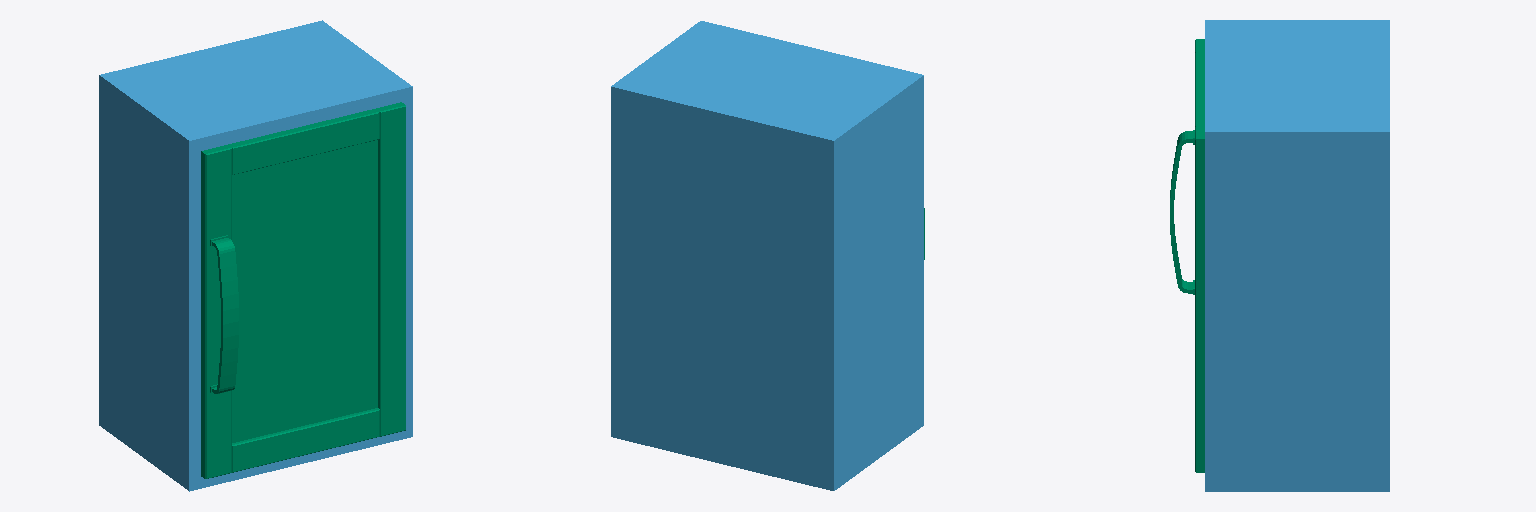
robot.urdf — cabinet:
<robot name="cabinet">
  <link name="root" />
  <joint name="root_rotation" type="fixed">
    <origin rpy="0 0 0" xyz="0 0 0" />
    <parent link="root" />
    <child link="cabinet0132" />
  </joint>
  <link name="cabinet0132">
    <collision>
      <origin rpy="0.000000 -0.000000 0.000000" xyz="0 0.009 0.4399338" />
      <geometry>
        <box size="0.3 0.209999996 0.0201599993" />
      </geometry>
    </collision>
    <collision>
      <origin rpy="0.000000 -0.000000 0.000000" xyz="0 0.0080598 0.3001128" />
      <geometry>
        <box size="0.26142 0.184259999 0.0122400004" />
      </geometry>
    </collision>
    <collision>
      <origin rpy="0.000000 -0.000000 0.000000" xyz="0 0.0080598 0.1487328" />
      <geometry>
        <box size="0.26142 0.184259999 0.0122400004" />
      </geometry>
    </collision>
    <collision>
      <origin rpy="0.000000 -0.000000 0.000000" xyz="0 0.009 0.0100662" />
      <geometry>
        <box size="0.3 0.209999996 0.0201599993" />
      </geometry>
    </collision>
    <collision>
      <origin rpy="0.000000 -0.000000 0.000000" xyz="-0.1403496 0.009 0.225105" />
      <geometry>
        <box size="0.0193200007 0.209999996 0.411240005" />
      </geometry>
    </collision>
    <collision>
      <origin rpy="0.000000 -0.000000 0.000000" xyz="0.1403496 0.009 0.2251698" />
      <geometry>
        <box size="0.0193200007 0.209999996 0.410640013" />
      </geometry>
    </collision>
    <collision>
      <origin rpy="0.000000 -0.000000 0.000000" xyz="-9.36e-05 0.1071 0.2251044" />
      <geometry>
        <box size="0.2625 0.0138 0.41135999" />
      </geometry>
    </collision>
    <visual>
      <origin xyz="0 0 0" rpy="0 0 0" />
      <geometry>
        <mesh filename="cabinet_meshes/cabinet0132/part_00/mesh.obj" scale="0.6 0.6 0.6" />
      </geometry>
    </visual>
    <inertial>
      <origin xyz="0 0.009 0.224999964" rpy="0 0 0" />
      <mass value="1.8" />
      <inertia ixx="0.0369900188" ixy="0" ixz="0" iyy="0.0438750097" iyz="0" izz="0.0201150091" />
    </inertial>
  </link>
  <link name="cabinet0132_door01">
    <collision>
      <origin rpy="0.000000 -0.000000 0.000000" xyz="-0.1349172 7.5e-05 0.1933038" />
      <geometry>
        <box size="0.198779994 0.0109200004 0.03552" />
      </geometry>
    </collision>
    <collision>
      <origin rpy="0.000000 -0.000000 0.000000" xyz="-0.1349262 7.56e-05 -0.1888452" />
      <geometry>
        <box size="0.198779994 0.0109200004 0.035580001" />
      </geometry>
    </collision>
    <collision>
      <origin rpy="0.000000 -0.000000 0.000000" xyz="-0.2520828 7.5e-05 0.0022242" />
      <geometry>
        <box size="0.03552 0.0109200004 0.417720008" />
      </geometry>
    </collision>
    <collision>
      <origin rpy="0.000000 -0.000000 0.000000" xyz="-0.017766 7.5e-05 0.0022254" />
      <geometry>
        <box size="0.03552 0.0109200004 0.417720008" />
      </geometry>
    </collision>
    <collision>
      <origin rpy="0.000000 -0.000000 0.000000" xyz="-0.1349208 0.0012234 0.0022368" />
      <geometry>
        <box size="0.198779994 0.00180000002 0.346620011" />
      </geometry>
    </collision>
    <visual>
      <origin xyz="0 0 0" rpy="0 0 0" />
      <geometry>
        <mesh filename="cabinet_meshes/cabinet0132_door01/part_00/mesh.obj" scale="0.6 0.6 0.6" />
      </geometry>
    </visual>
    <visual>
      <origin xyz="0 0 0" rpy="0 0 0" />
      <geometry>
        <mesh filename="cabinet_meshes/cabinet0132_door01/part_01/mesh.obj" scale="0.6 0.6 0.6" />
      </geometry>
    </visual>
    <collision name="graspable_handle_bar_cabinet0132_door01">
      <origin xyz="-0.252100593 -0.029497086 0.002207979" rpy="0 0 0" />
      <geometry>
        <box size="0.021600036 0.009207984 0.173673828" />
      </geometry>
    </collision>
    <collision name="graspable_handle_support_a_cabinet0132_door01">
      <origin xyz="-0.252090381 -0.019657614 -0.0844814281" rpy="0 0 0" />
      <geometry>
        <box size="0.023477844 0.028886928 0.0236473978" />
      </geometry>
    </collision>
    <collision name="graspable_handle_support_b_cabinet0132_door01">
      <origin xyz="-0.252090381 -0.019657614 0.0889328221" rpy="0 0 0" />
      <geometry>
        <box size="0.023477844 0.028886928 0.0236473978" />
      </geometry>
    </collision>
    <inertial>
      <origin xyz="-0.134927826 -0.014277639 0.002225697" rpy="0 0 0" />
      <mass value="0.45" />
      <inertia ixx="0.00660206517" ixy="0" ixz="0" iyy="0.00927395124" iyz="0" izz="0.00278977669" />
    </inertial>
  </link>
  <joint name="cabinet0132_door01" type="revolute">
    <parent link="cabinet0132" />
    <child link="cabinet0132_door01" />
    <axis xyz="0.000000 0.000000 1.000000" />
    <limit effort="100.0000" lower="-0.0" upper="2.356194496154785" velocity="3.0000" />
    <origin rpy="0 0 0" xyz="0.1349358 -0.1024062 0.2228112" />
    <dynamics damping="0.15" friction="0.05" />
  </joint>
</robot>

--- Facts derived from the render (not from the file) ---
3 views of the same robot in one strip: view 1: azimuth 30°, elevation 25°; view 2: azimuth 150°, elevation 25°; view 3: azimuth 270°, elevation 25° (orthographic).
Robot: cabinet — 3 links, 2 joints (1 revolute, 1 fixed); root link root; default pose: all joints at 0.
Links seen in each view (by area): view 1: cabinet0132_door01, cabinet0132; view 2: cabinet0132; view 3: cabinet0132, cabinet0132_door01.
Boxes of the visible links, x1,y1,x2,y2 form: cabinet0132_door01: (201,102,405,478); cabinet0132: (99,20,412,491); cabinet0132: (611,21,923,490); cabinet0132: (1205,20,1389,491); cabinet0132_door01: (1170,39,1204,472).
Size in the robot's own frame: 0.3 by 0.2505 by 0.45 metres.
Meshes: 3 distinct files referenced, 3 mesh visuals loaded (3 OBJ).
